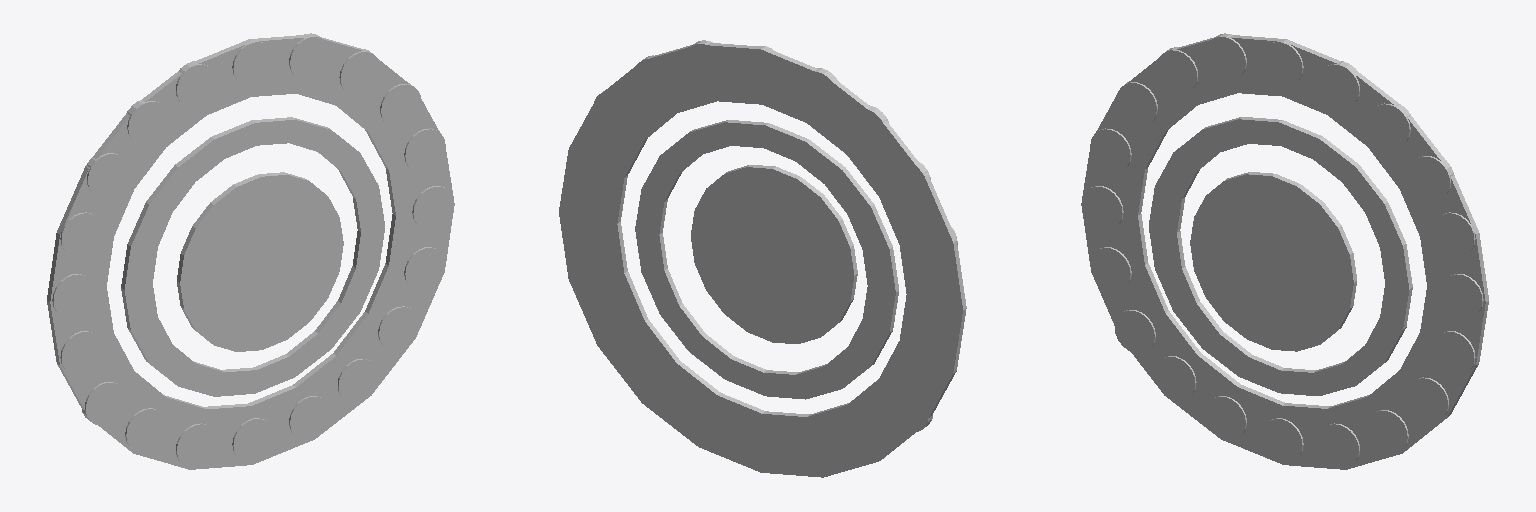
File: Violence.obj
The picture shows the model from 3 angles: view 1: azimuth 30°, elevation 25°; view 2: azimuth 150°, elevation 25°; view 3: azimuth 330°, elevation 25°; orthographic projection.
Parts seen in each view (by area): view 1: obj_0; view 2: obj_0; view 3: obj_0.
Boxes of the visible parts, <box> form: obj_0: <box>47,33,454,469</box>; obj_0: <box>559,40,966,477</box>; obj_0: <box>1081,33,1488,469</box>.
Bounding box in the file's own units: 200 × 200 × 12.